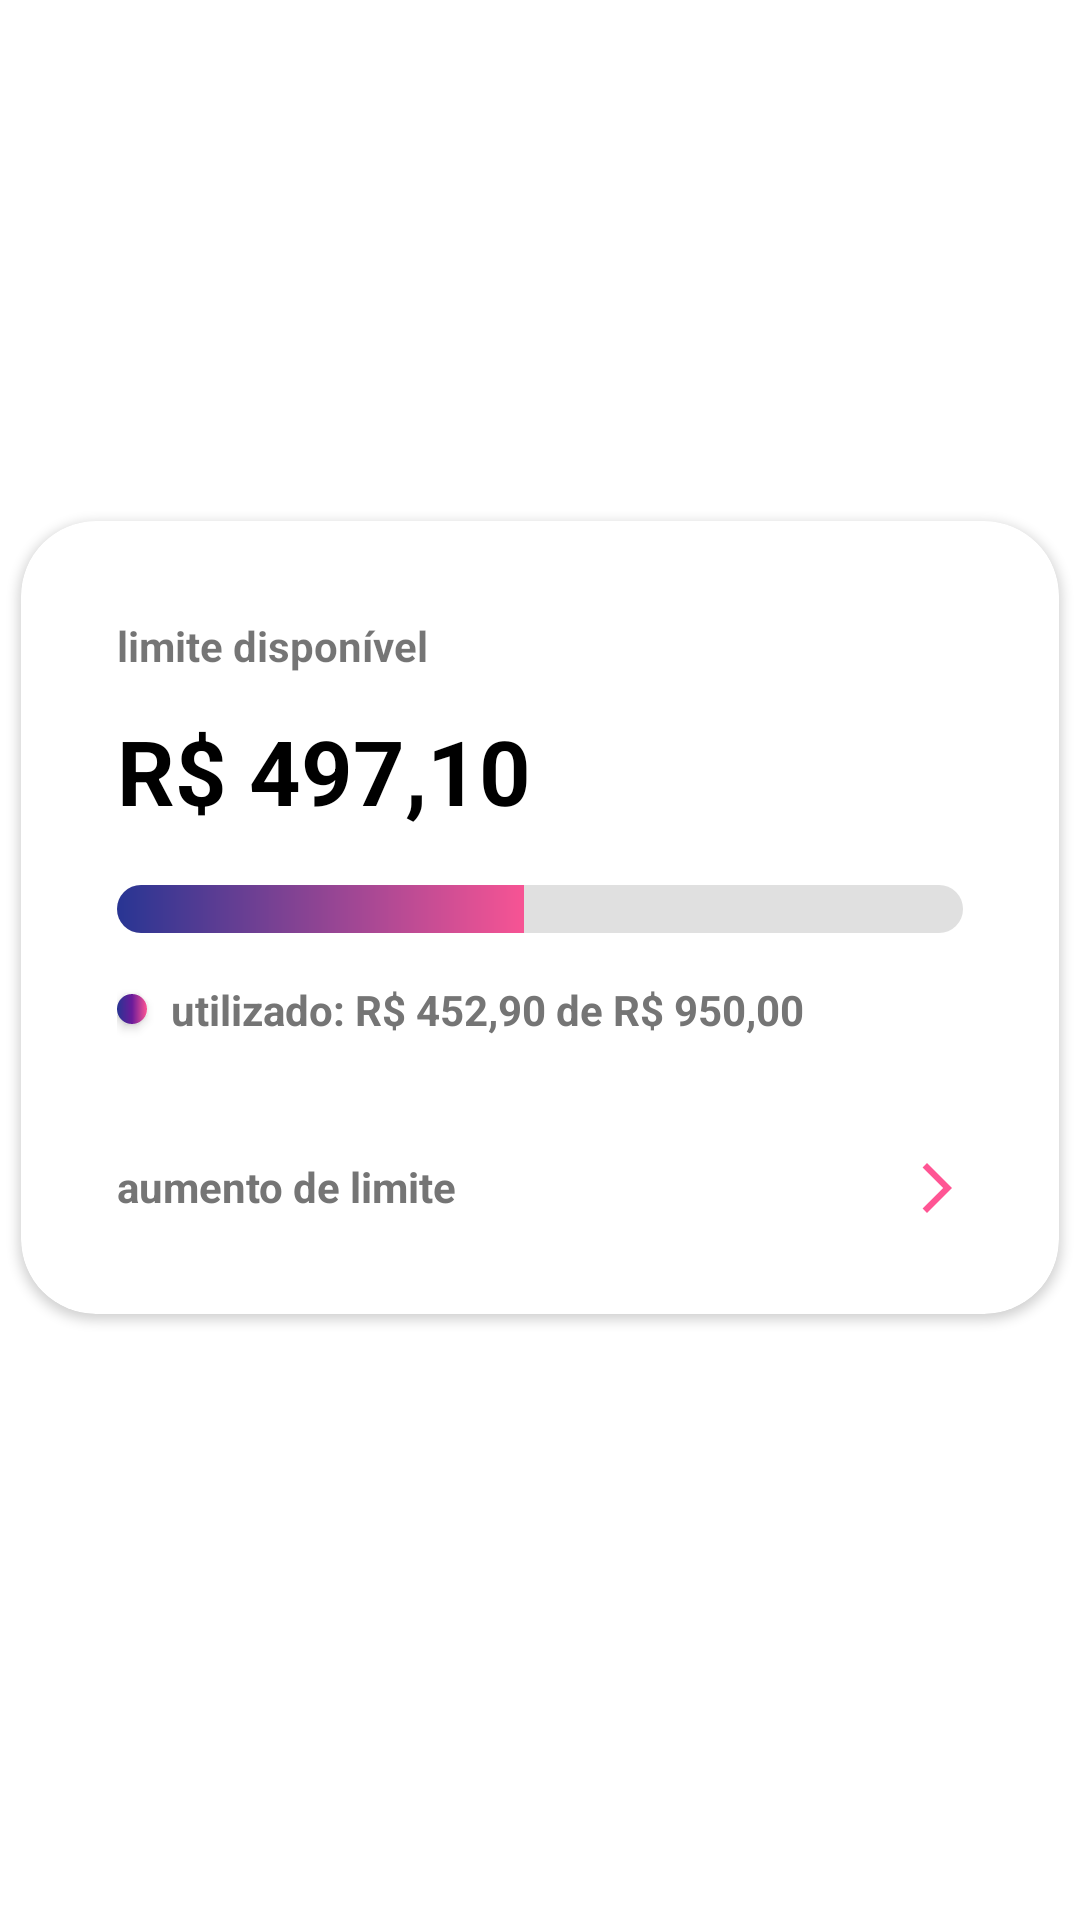

Icon bounding boxes for this 1080 x 1920 phone screenshot, format detection(x1, y1, x2, y2):
arrow forward: detection(922, 1163, 952, 1213)
